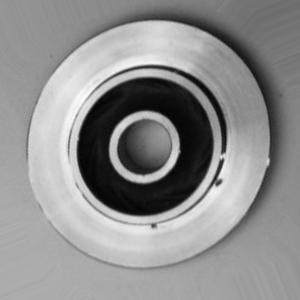defect: (133, 173, 231, 239)
